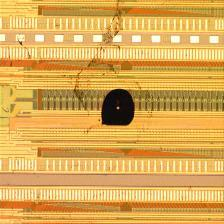PARTICLE: (101, 88, 137, 130)
